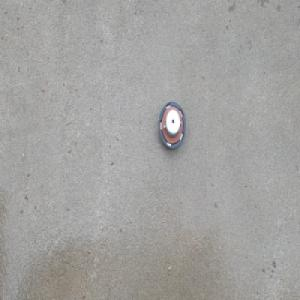FuelCap: (156, 100, 185, 152)
